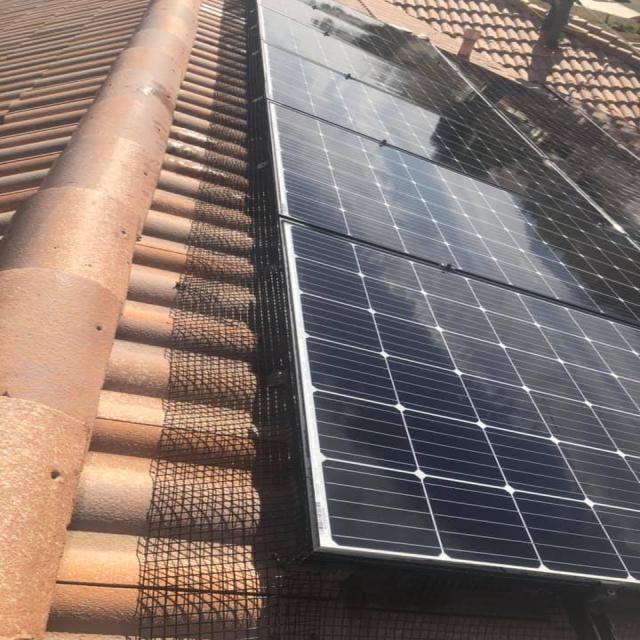clean-solar-panel: (258, 0, 638, 582)
